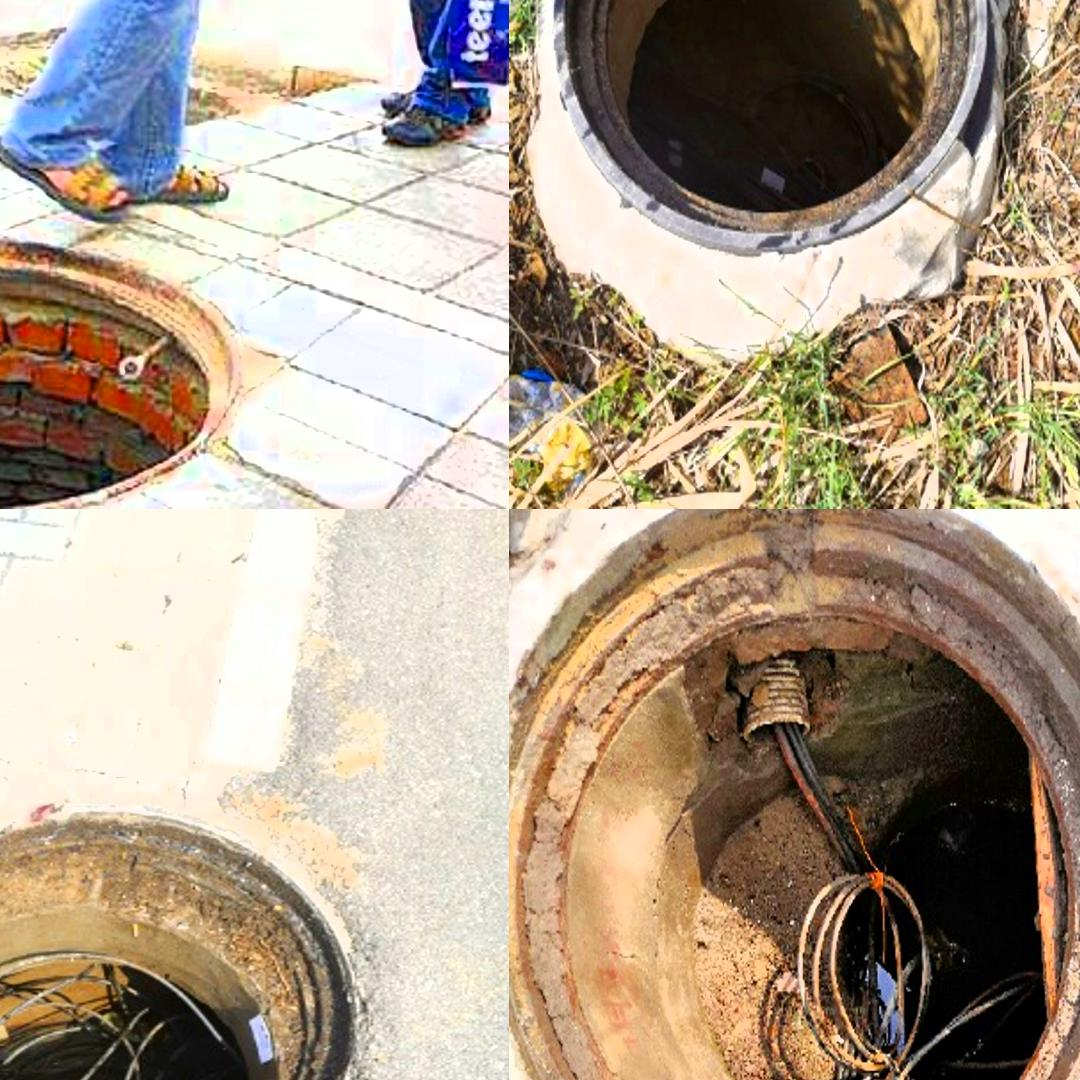lose: (512, 511, 1080, 1080), (549, 0, 988, 254), (0, 797, 373, 1080), (0, 238, 246, 506)
